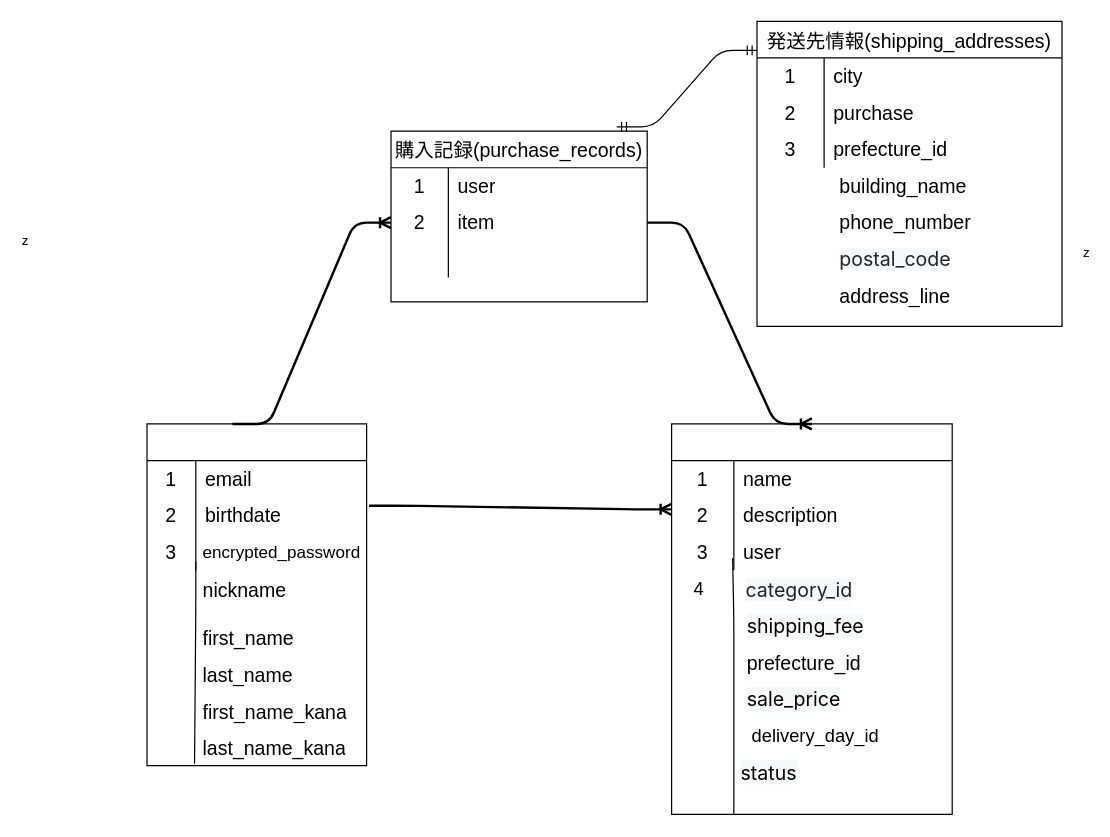
The diagram is 1110 pixels wide and 837 high, and some of its shapes have lost their labels. The box of each missing label's shape, as (x1, y1, x2, y2) in pixels:
ユーザー情報(users): (146, 423, 367, 766)
商品情報（items): (670, 423, 952, 814)
